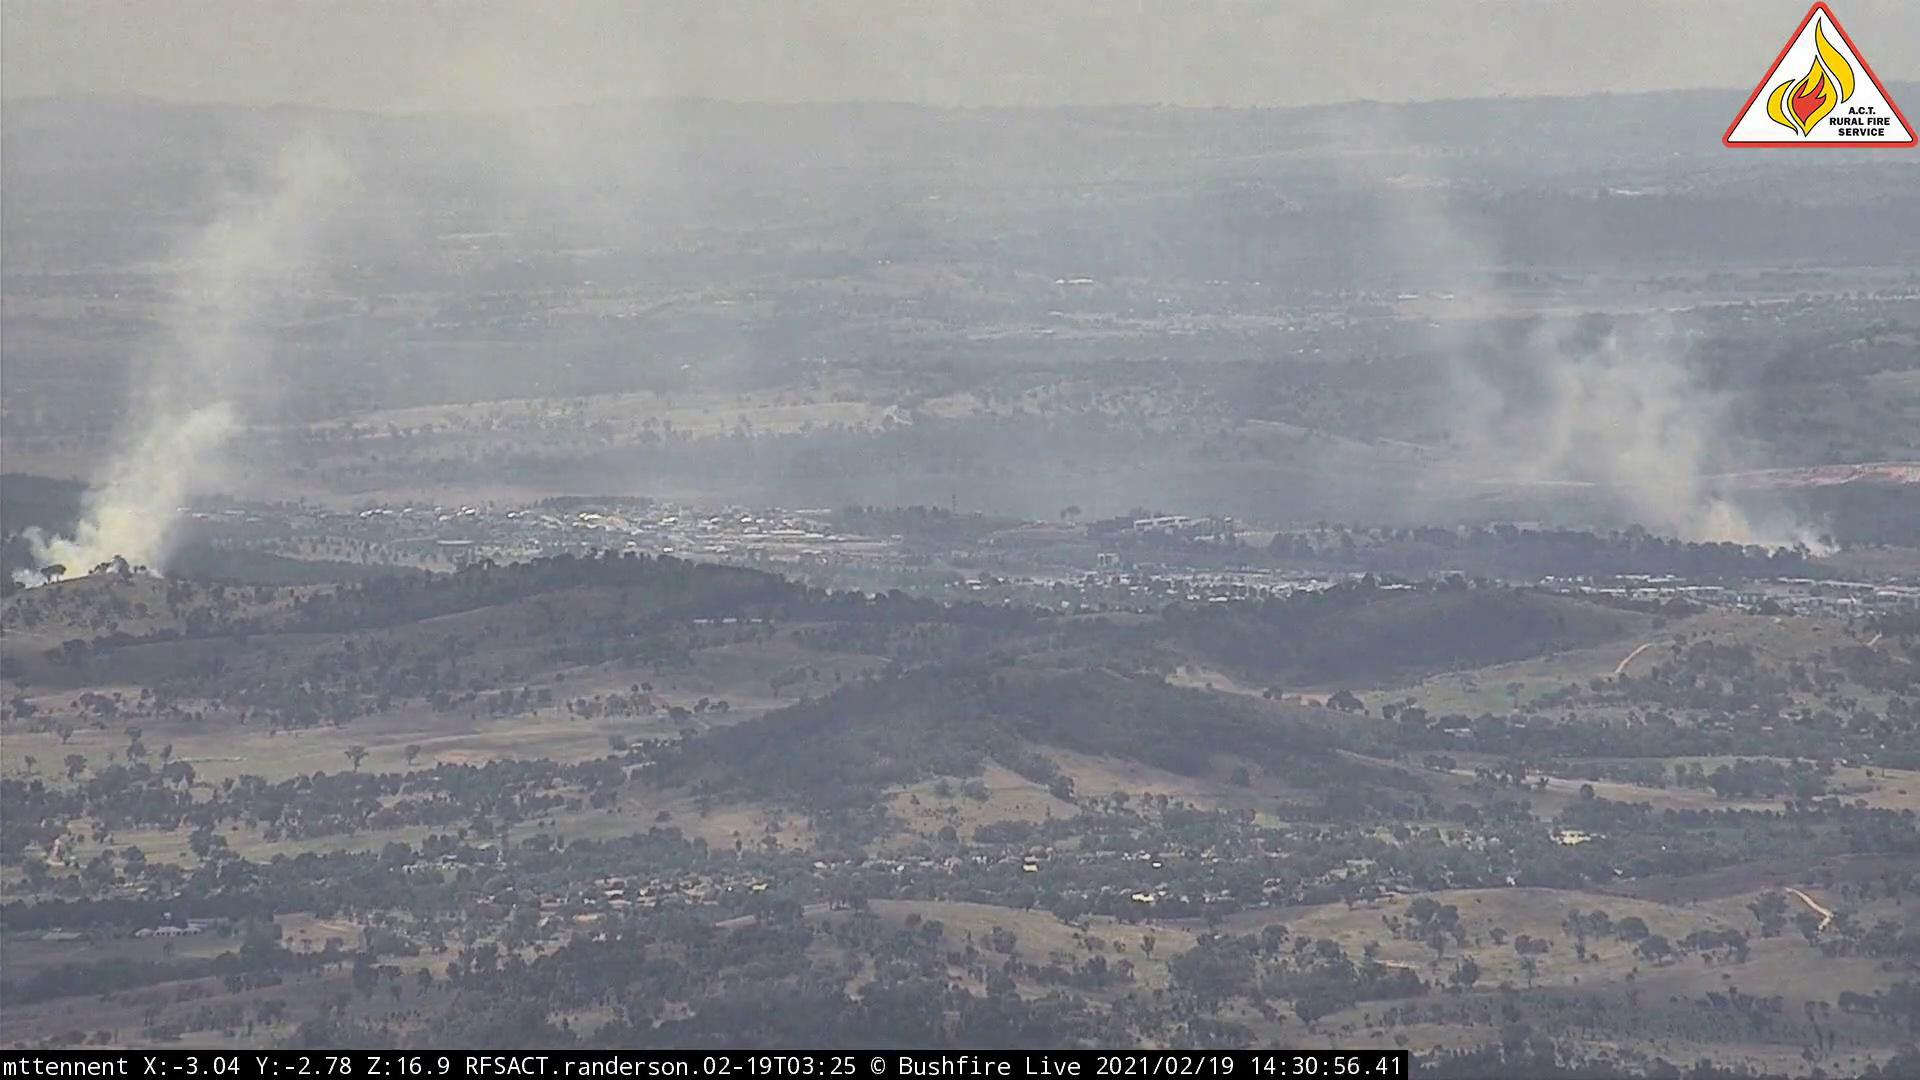Smoke: (1386, 208, 1850, 566), (20, 145, 368, 601)
